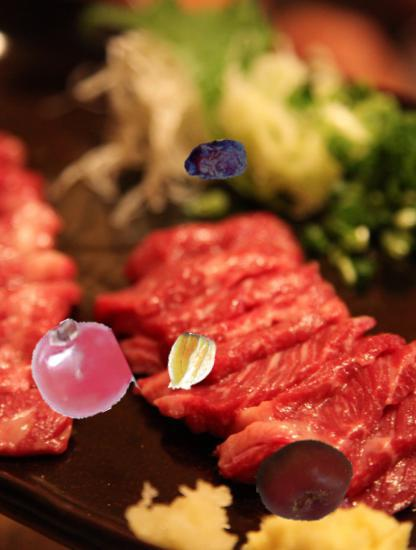Dates: (183, 128, 248, 193)
Nectarine: (256, 432, 354, 530)
Physalis: (161, 334, 221, 394)
Redcurrant: (29, 319, 129, 419)
